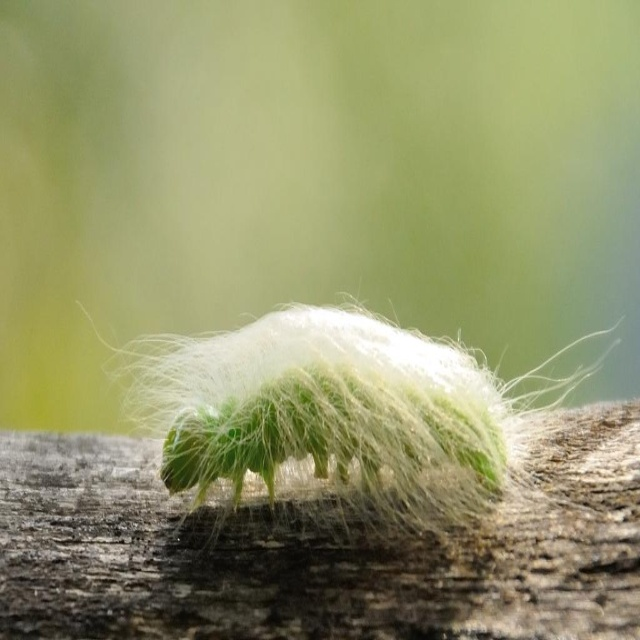Caterpillar: (75, 273, 626, 563)
